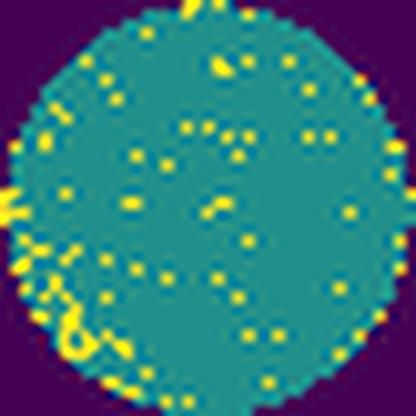Loc: (44, 279, 132, 362)
